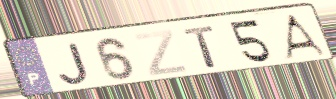5: (226, 19, 274, 64)
6: (94, 35, 137, 82)
A: (282, 12, 329, 61)
J: (56, 40, 92, 86)
T: (180, 24, 220, 70)
Z: (131, 28, 189, 77)
